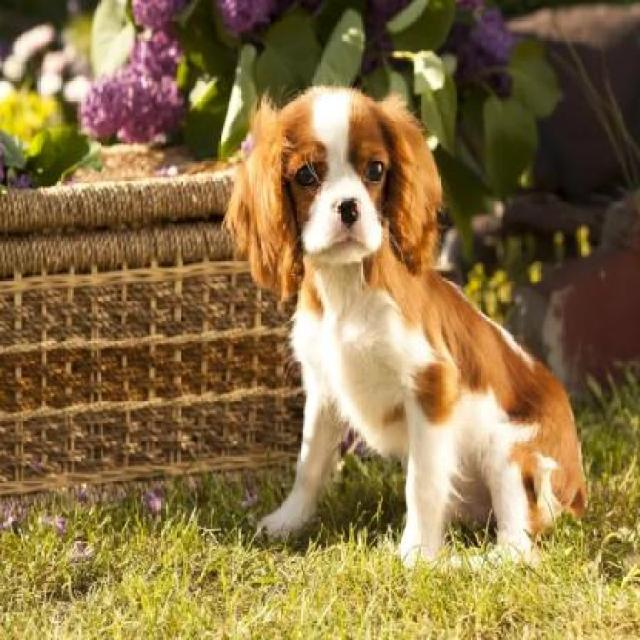animals: (220, 71, 603, 563)
